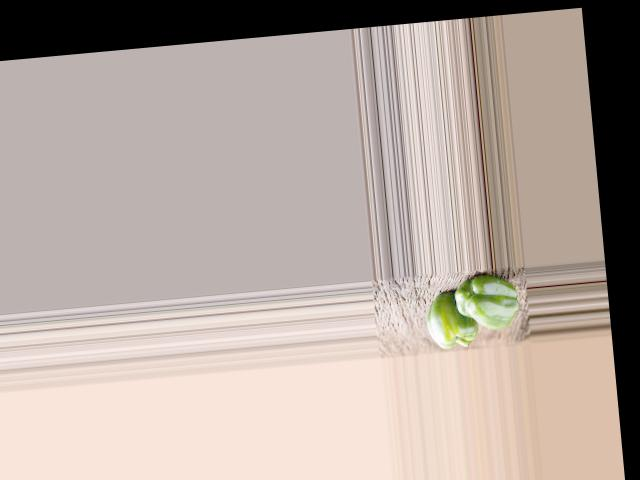bell_pepper: (451, 274, 520, 334)
